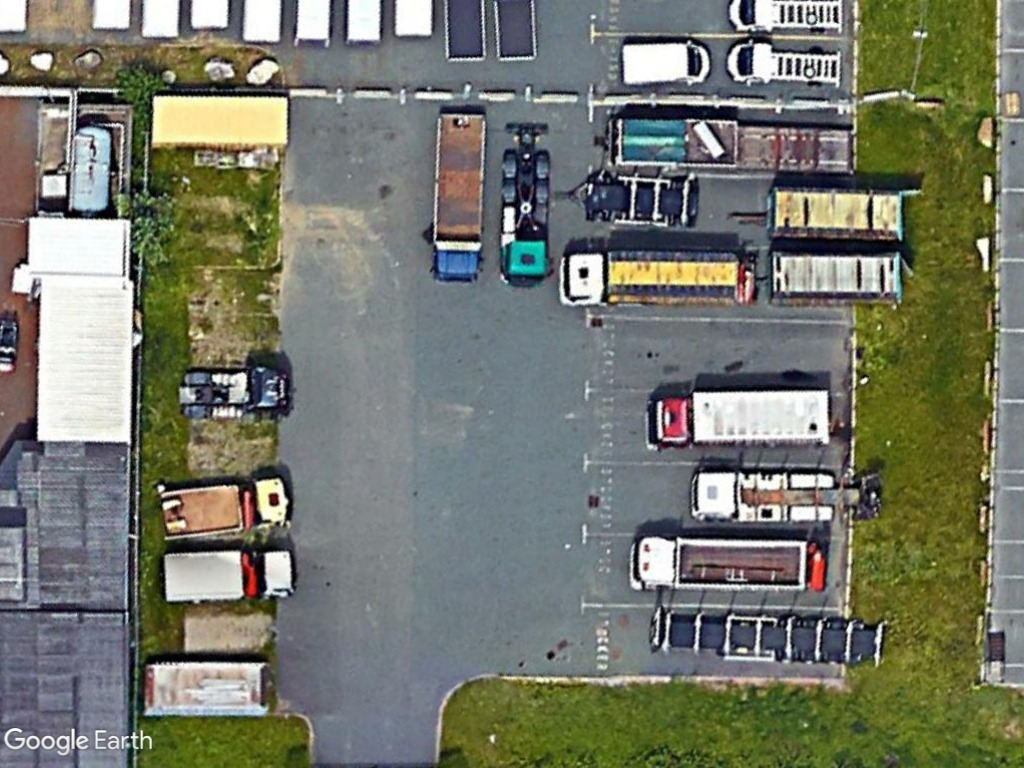others: (626, 528, 813, 597), (426, 106, 495, 287), (156, 470, 296, 543)
truck: (552, 243, 760, 315), (645, 384, 835, 457), (154, 546, 299, 611)
van: (616, 36, 717, 90)
